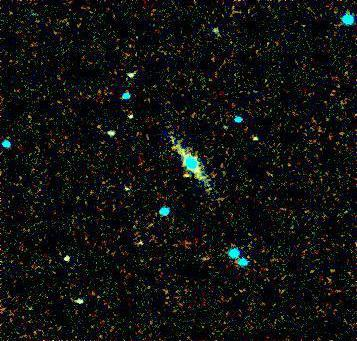star: (170, 165, 200, 195)
